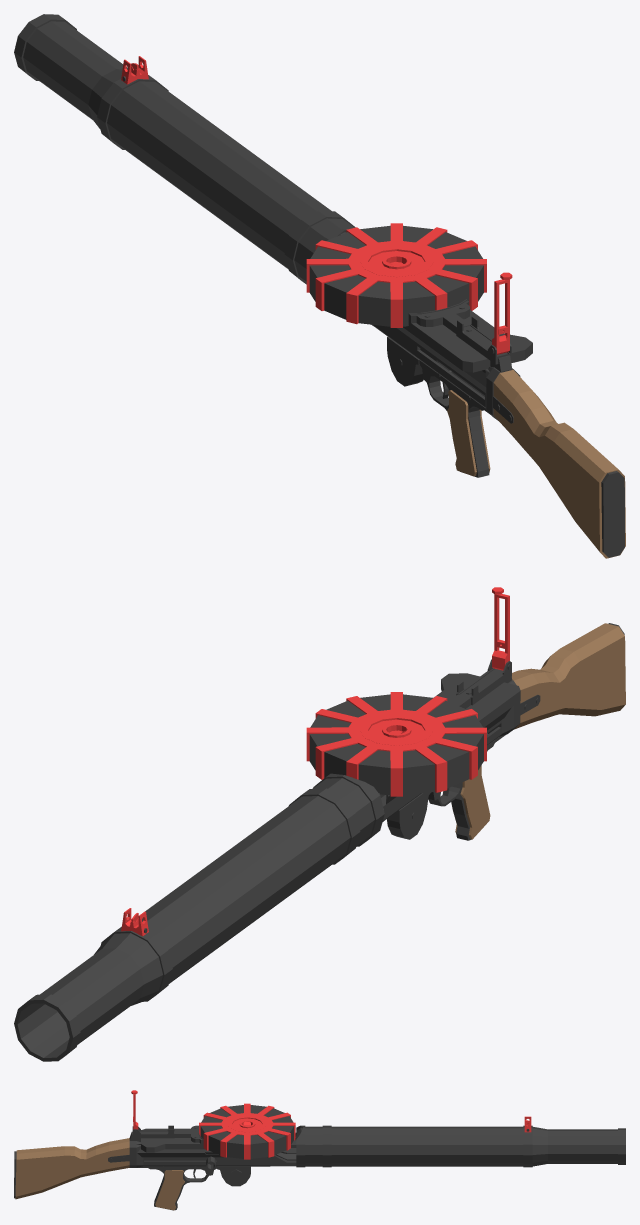
Rendered from lmg_4.glb.
The picture shows the model from 3 angles, top to bottom: view 1: azimuth 30°, elevation 25°; view 2: azimuth 150°, elevation 25°; view 3: azimuth 270°, elevation 25°; orthographic projection. The views are drawn at different scales.
Visible parts, largest first — view 1: p0_paint, p117_accent, p26_paint, p24_paint, p120_paint, p96_paint, p50_del, p105_accent, p52_paint, p61_paint, p18_paint, p106_paint (+4 smaller); view 2: p0_paint, p117_accent, p26_paint, p24_paint, p50_del, p105_accent, p61_paint, p96_paint, p18_paint, p106_paint, p112_del, p14_paint (+5 smaller); view 3: p0_paint, p117_accent, p26_paint, p24_paint, p52_paint, p105_accent, p96_paint, p51_paint, p50_del, p61_paint, p106_paint, p18_paint (+8 smaller).
Part boxes in pixels (x1,y1,x2,y2): p0_paint: [14, 14, 354, 281]; p117_accent: [493, 369, 625, 558]; p26_paint: [309, 225, 483, 326]; p24_paint: [403, 299, 532, 372]; p120_paint: [601, 471, 624, 557]; p96_paint: [419, 360, 490, 477]; p50_del: [359, 245, 433, 277]; p105_accent: [447, 390, 490, 476]; p52_paint: [373, 325, 485, 407]; p61_paint: [387, 336, 423, 386]; p18_paint: [284, 210, 355, 284]; p106_paint: [456, 316, 511, 364]; p0_paint: [14, 778, 374, 1061]; p117_accent: [512, 623, 625, 729]; p26_paint: [309, 694, 483, 795]; p24_paint: [379, 673, 520, 797]; p50_del: [360, 714, 433, 745]; p105_accent: [451, 765, 490, 839]; p61_paint: [387, 792, 430, 839]; p96_paint: [428, 735, 505, 840]; p18_paint: [289, 788, 360, 864]; p106_paint: [456, 659, 511, 705]; p112_del: [492, 594, 509, 670]; p14_paint: [100, 927, 172, 1001]; p0_paint: [296, 1126, 625, 1166]; p117_accent: [15, 1138, 129, 1199]; p26_paint: [200, 1105, 293, 1158]; p24_paint: [141, 1125, 296, 1152]; p52_paint: [143, 1157, 266, 1166]; p105_accent: [155, 1170, 184, 1210]; p96_paint: [130, 1166, 216, 1210]; p51_paint: [137, 1144, 223, 1157]; p50_del: [227, 1115, 266, 1132]; p61_paint: [217, 1166, 250, 1186]; p106_paint: [132, 1125, 174, 1138]; p18_paint: [322, 1125, 331, 1167].
Bounding box in the file's own units: 0.2024 × 0.2737 × 1.28.
